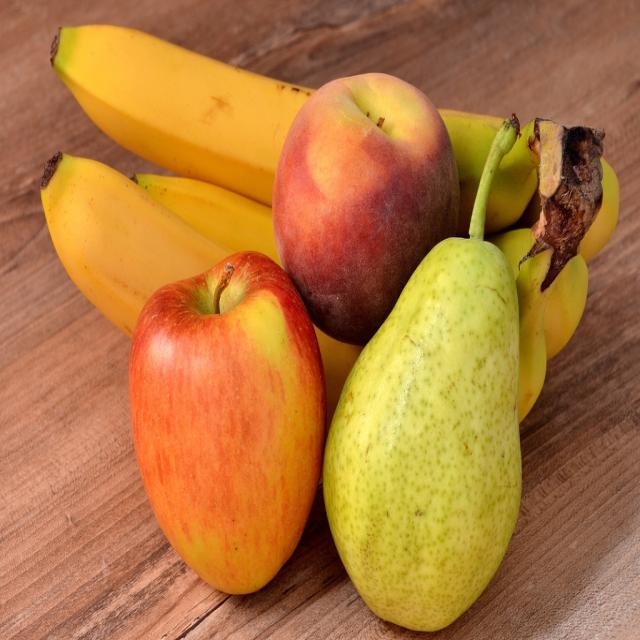apple: (130, 252, 326, 597)
banana: (32, 8, 625, 446)
pear: (323, 238, 523, 628)
